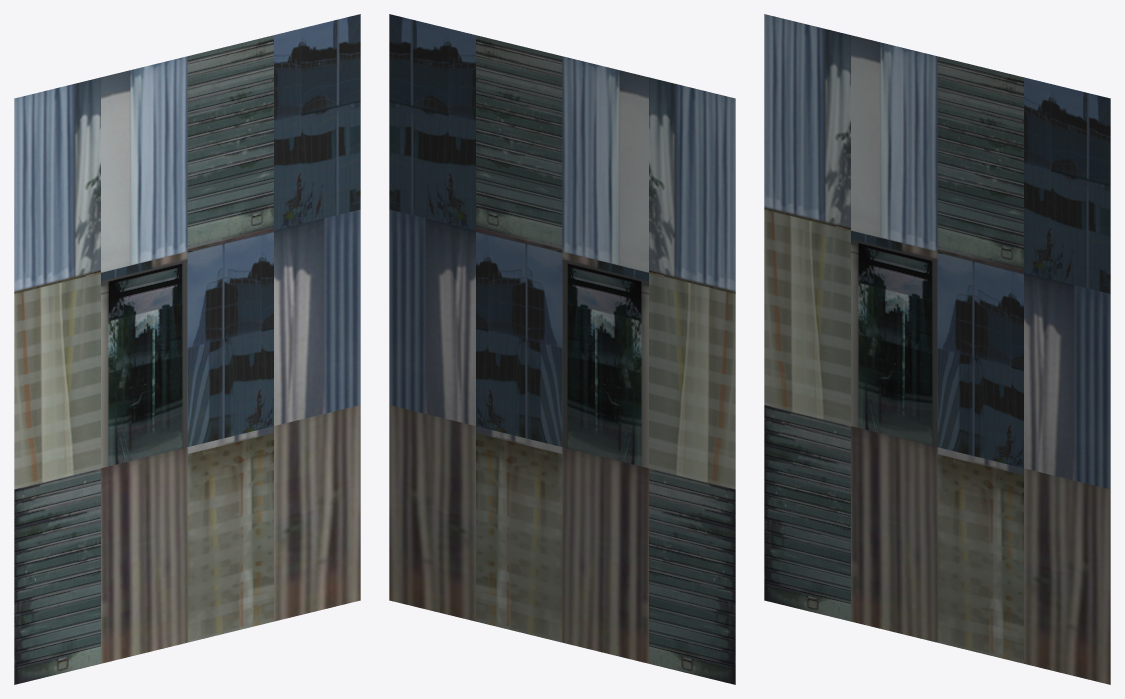
The model's file is city_window5.fbx.
3 renders of one model, left to right at view 1: azimuth 30°, elevation 25°; view 2: azimuth 150°, elevation 25°; view 3: azimuth 330°, elevation 25°, orthographic.
Visible parts, largest first — view 1: city_window5; view 2: city_window5; view 3: city_window5.
Boxes of the visible parts, bbox=[...] form: city_window5: bbox=[14, 14, 360, 684]; city_window5: bbox=[389, 14, 735, 684]; city_window5: bbox=[764, 14, 1110, 684].
Bounding box in the file's own units: 624 × 0 × 1009.
